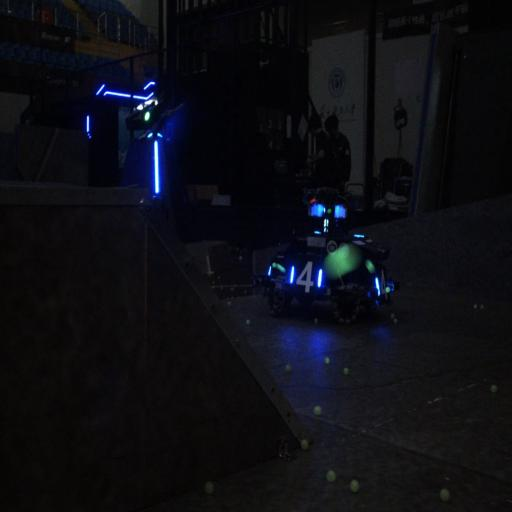target: (287, 253, 328, 301), (371, 269, 393, 306)
